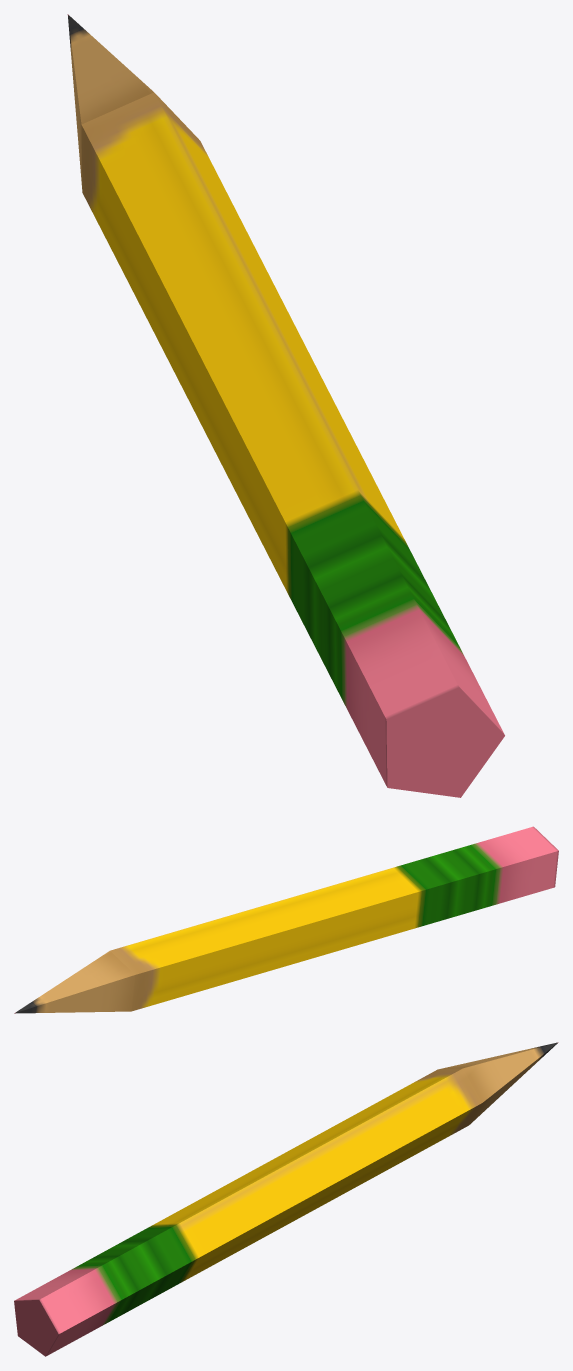
The model's file is pencil.glb.
3 renders of one model, top to bottom at view 1: azimuth 30°, elevation 25°; view 2: azimuth 150°, elevation 25°; view 3: azimuth 330°, elevation 25°, orthographic. The views are drawn at different scales.
Parts seen in each view (by area): view 1: ThePencil_Body, ThePencilPoint; view 2: ThePencil_Body, ThePencilPoint; view 3: ThePencil_Body, ThePencilPoint.
Part boxes in pixels (x1,y1,x2,y2): ThePencil_Body: [81, 92, 504, 797]; ThePencilPoint: [67, 14, 153, 188]; ThePencil_Body: [110, 826, 558, 1011]; ThePencilPoint: [14, 951, 135, 1013]; ThePencil_Body: [14, 1068, 482, 1356]; ThePencilPoint: [439, 1042, 558, 1124].
Bounding box in the file's own units: 0.5458 × 0.3022 × 1.76.
Materials: 2 (2 with a texture image).
